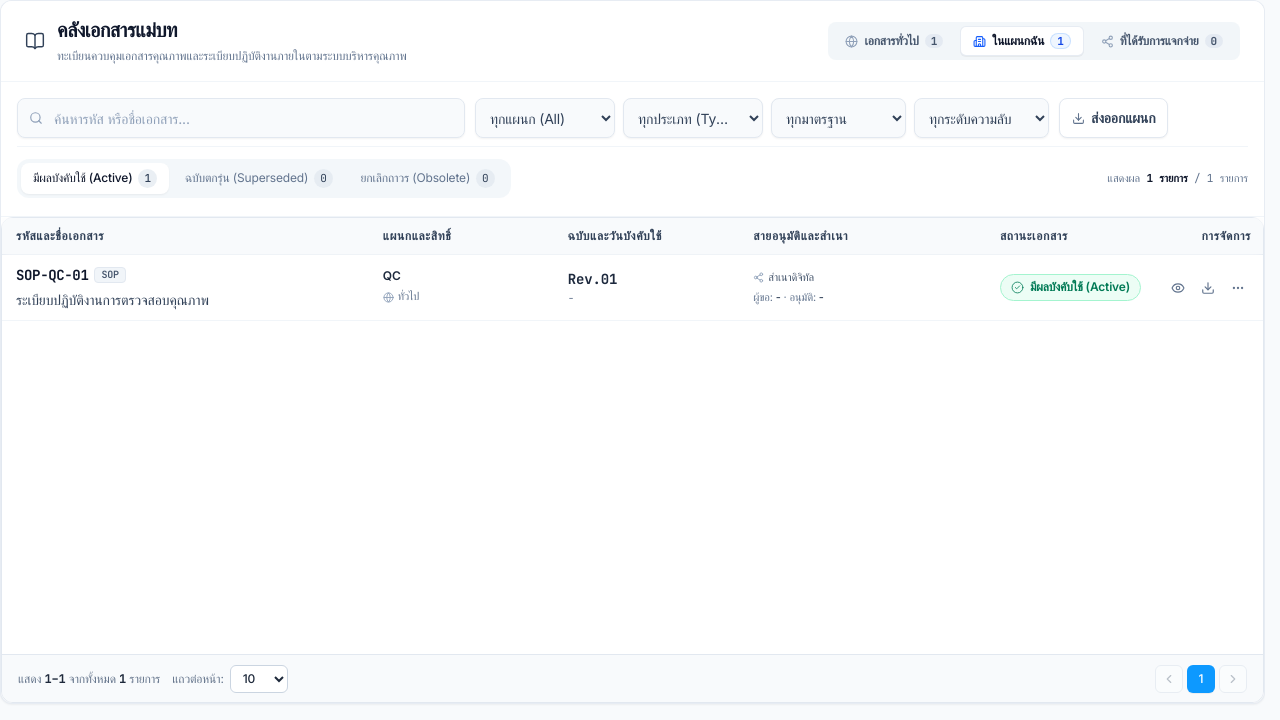
Strict Separation Between "ในแผนกฉัน" and "เอกสารทั่วไป" Scope Filtering › Cross-department isolation: General tab displays only non-own department public docs
Expected: the button "ในแผนกฉัน 1" is shown, [960,26,1084,56]
# In General tab: PD doc is visible, own QC doc is hidden
Click the button "เอกสารทั่วไป 1": (894, 41) [832,26,956,56]
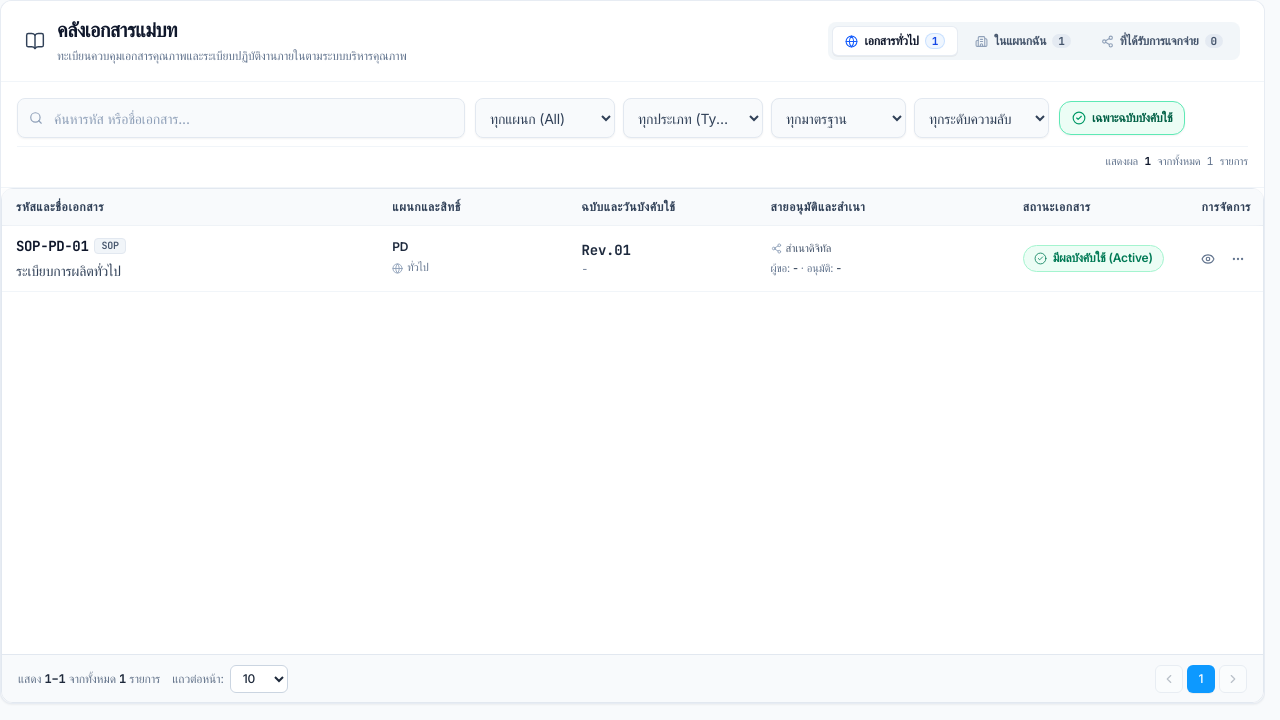
Expected: the text "SOP-PD-01" is shown, [16,236,88,256]
Expected: the text "SOP-QC-01" is gone
# In My Dept tab: QC doc is visible, PD doc is hidden
Click the button "ในแผนกฉัน 1": (1023, 41) [962,26,1084,56]
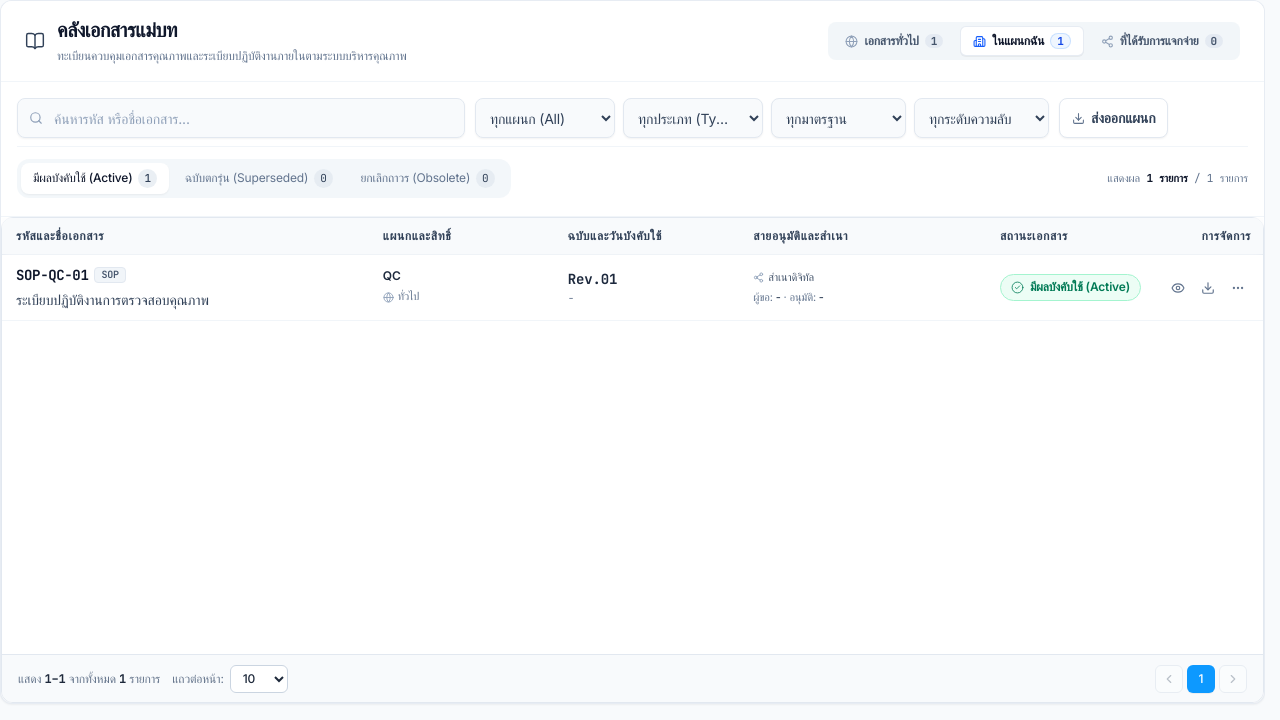
Expected: the text "SOP-QC-01" is shown, [16,265,88,285]
Expected: the text "SOP-PD-01" is gone
